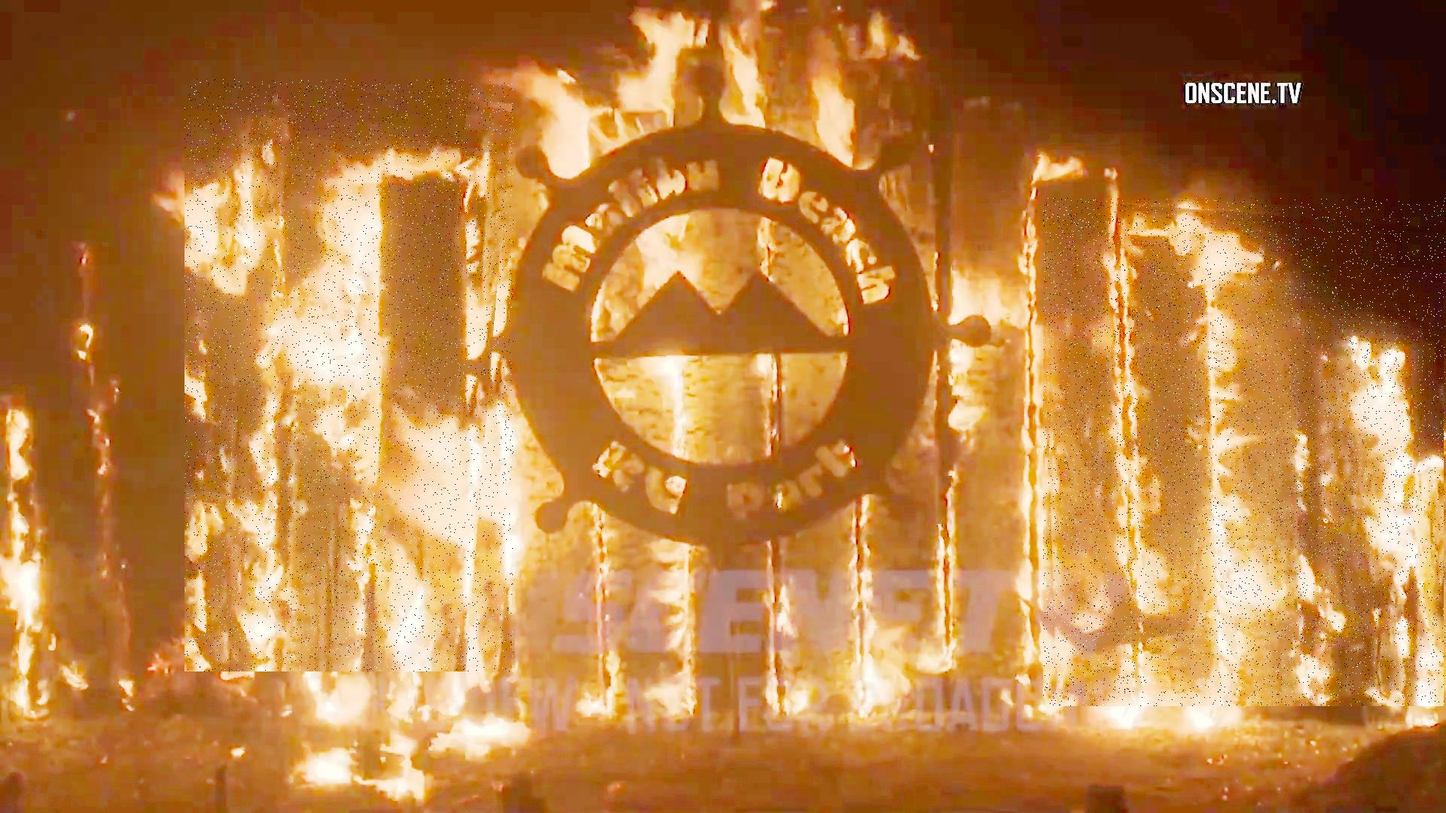fire: (1044, 198, 1446, 706), (185, 79, 514, 672)
